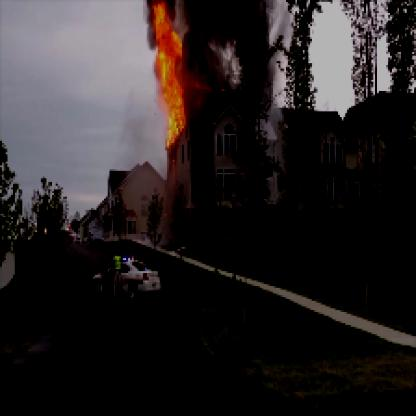Fire: (145, 2, 206, 156)
Smoke: (180, 2, 275, 126)
